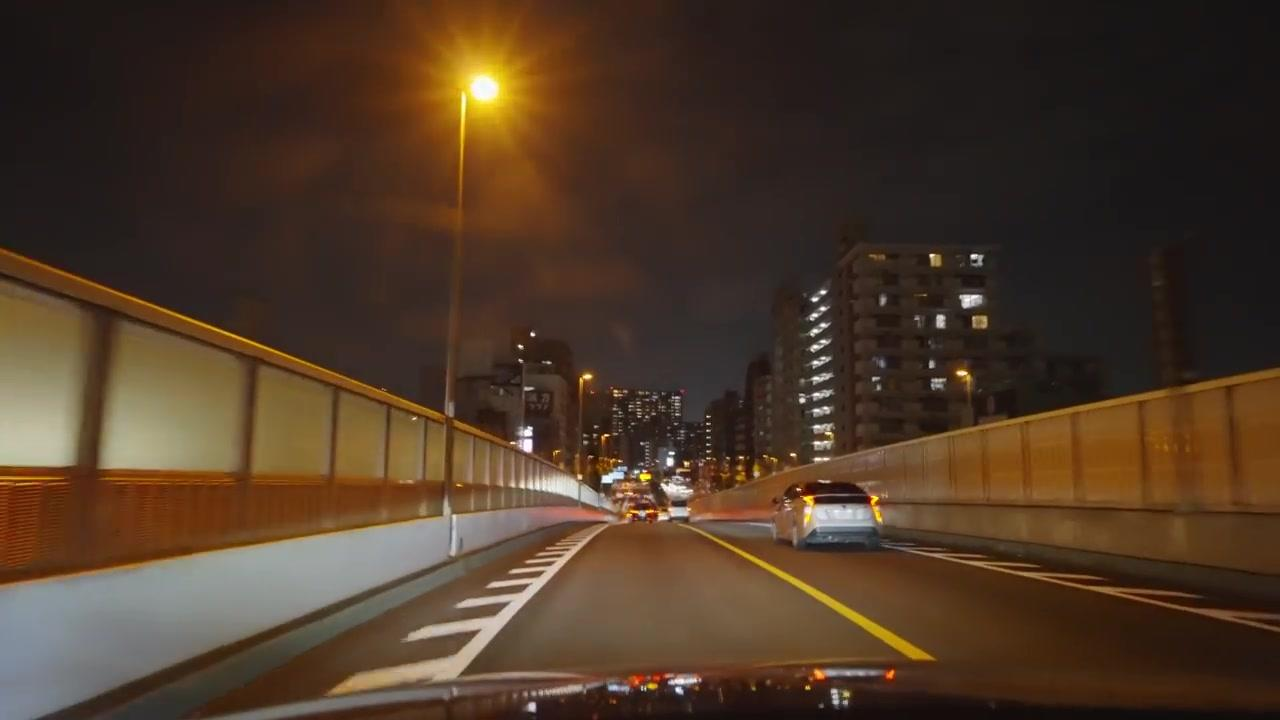car: (771, 480, 884, 550), (622, 495, 660, 523), (664, 477, 694, 506)
train: (4, 248, 617, 708)
